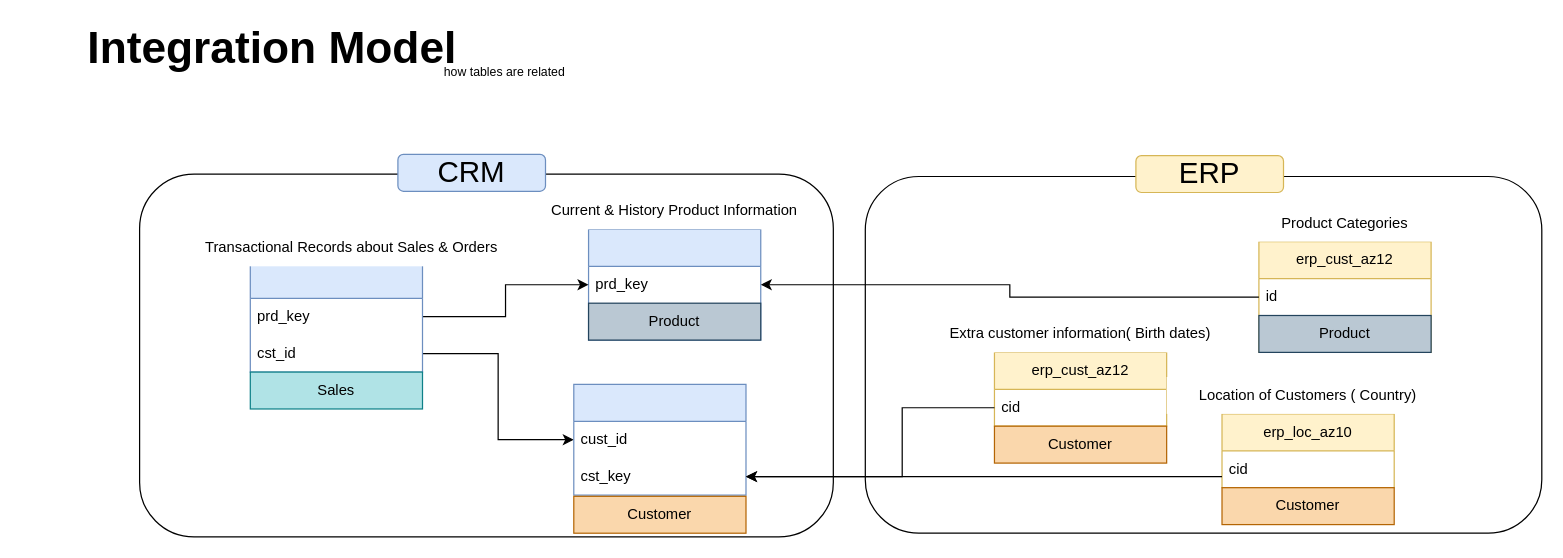
This 1563x558 diagram has some shape labels left out. Here are the shapes that lost their labels. From the top down, the box of each, then its label:
(587, 228, 761, 340): crm_prd_info
(249, 260, 423, 372): crm_sales_details
(599, 352, 710, 394): customer_info
(573, 383, 746, 495): crm_cust_info
